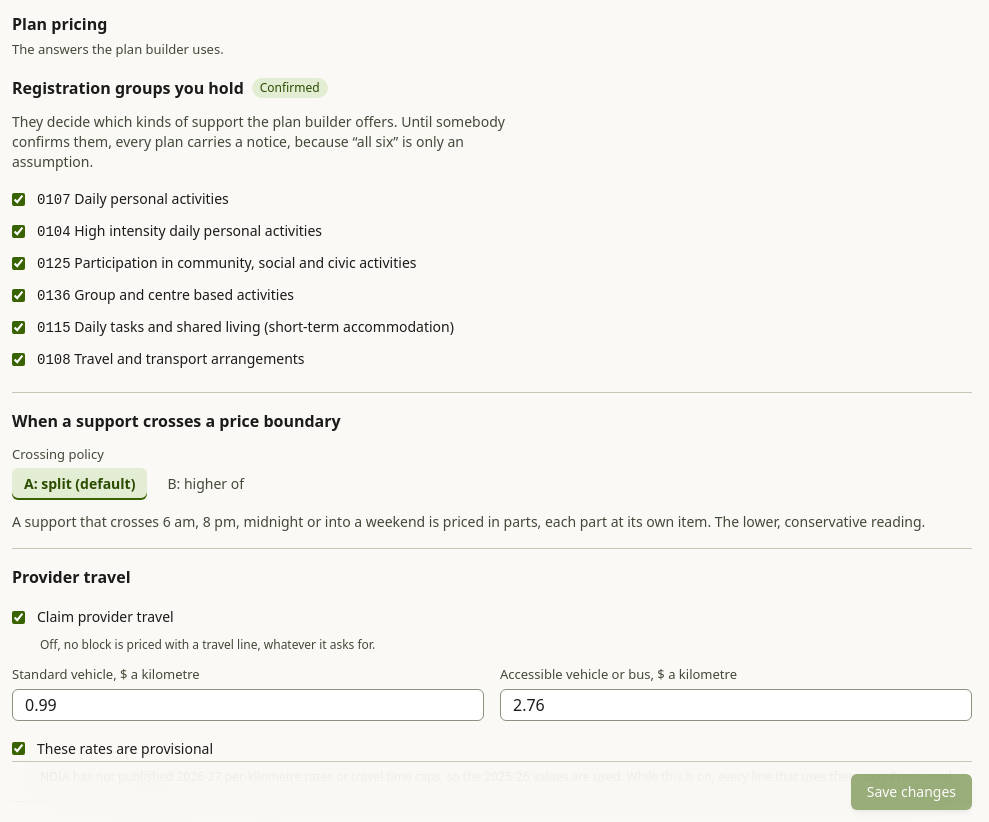
it: Plan pricing settings › says in one plain sentence what each crossing policy does, and changes with the choice
The image size is (989, 822).
Expected: the text "priced in parts, each part at its own item. The lower, conservative reading." is shown, [12,512,925,531]
What coordinates should you click on to do the following:
click the radio button labelled "B: higher of"
I would click on:
 (206, 484)
Its box is [155,468,256,500].
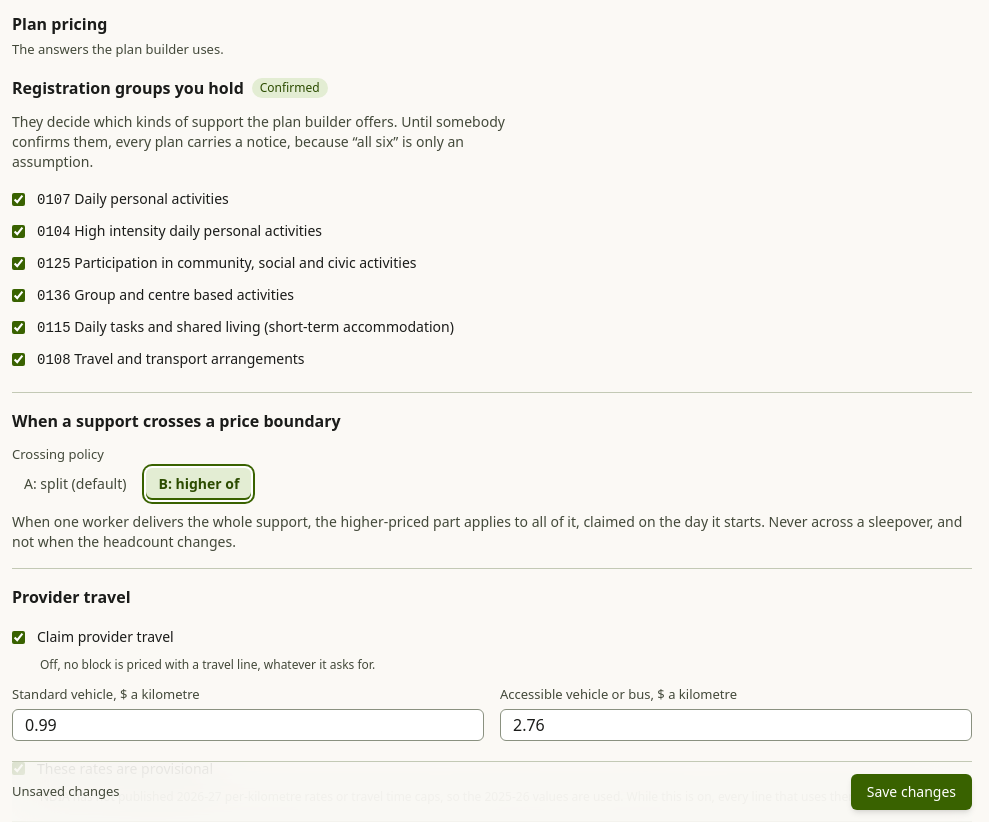
Expected: the text "the higher-priced part applies to all of it, claimed on the day it starts. Never across a sleepover" is shown, [12,512,962,551]
